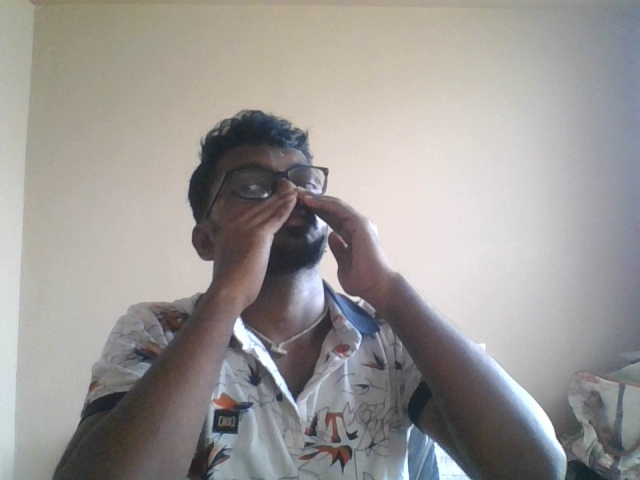Thank you: (201, 188, 410, 346)
